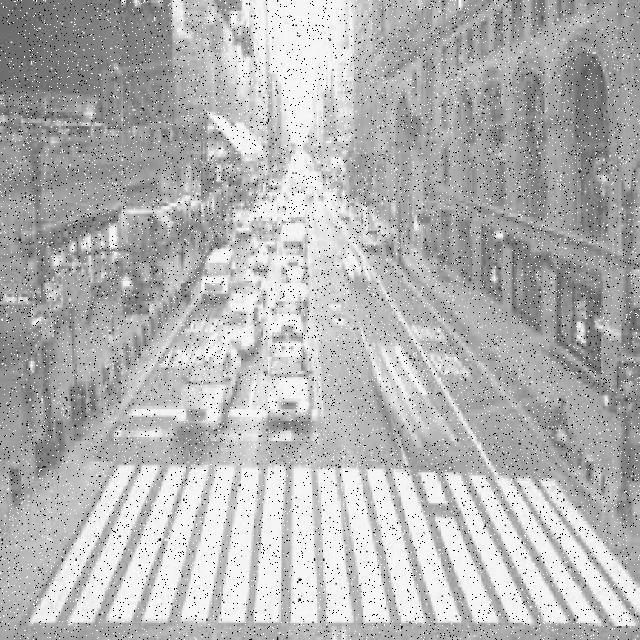crosswalk: (27, 465, 640, 627)
